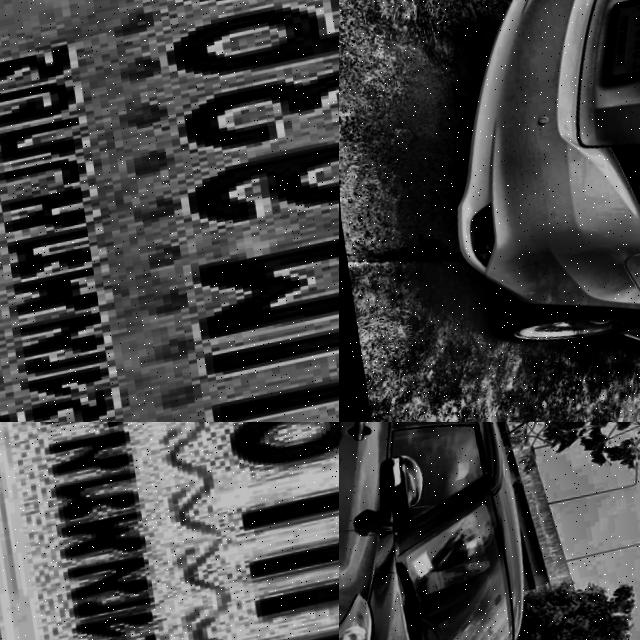license-plate: (0, 0, 339, 422), (0, 422, 339, 640), (590, 0, 640, 89)
